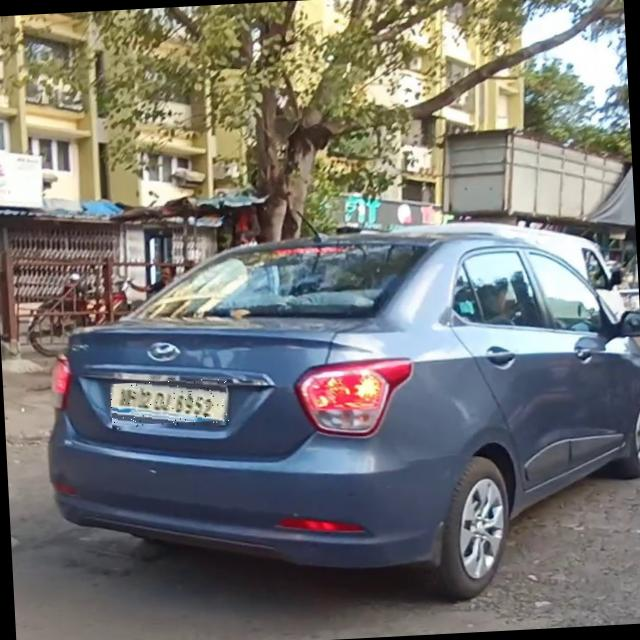Plate: (111, 380, 230, 432)
